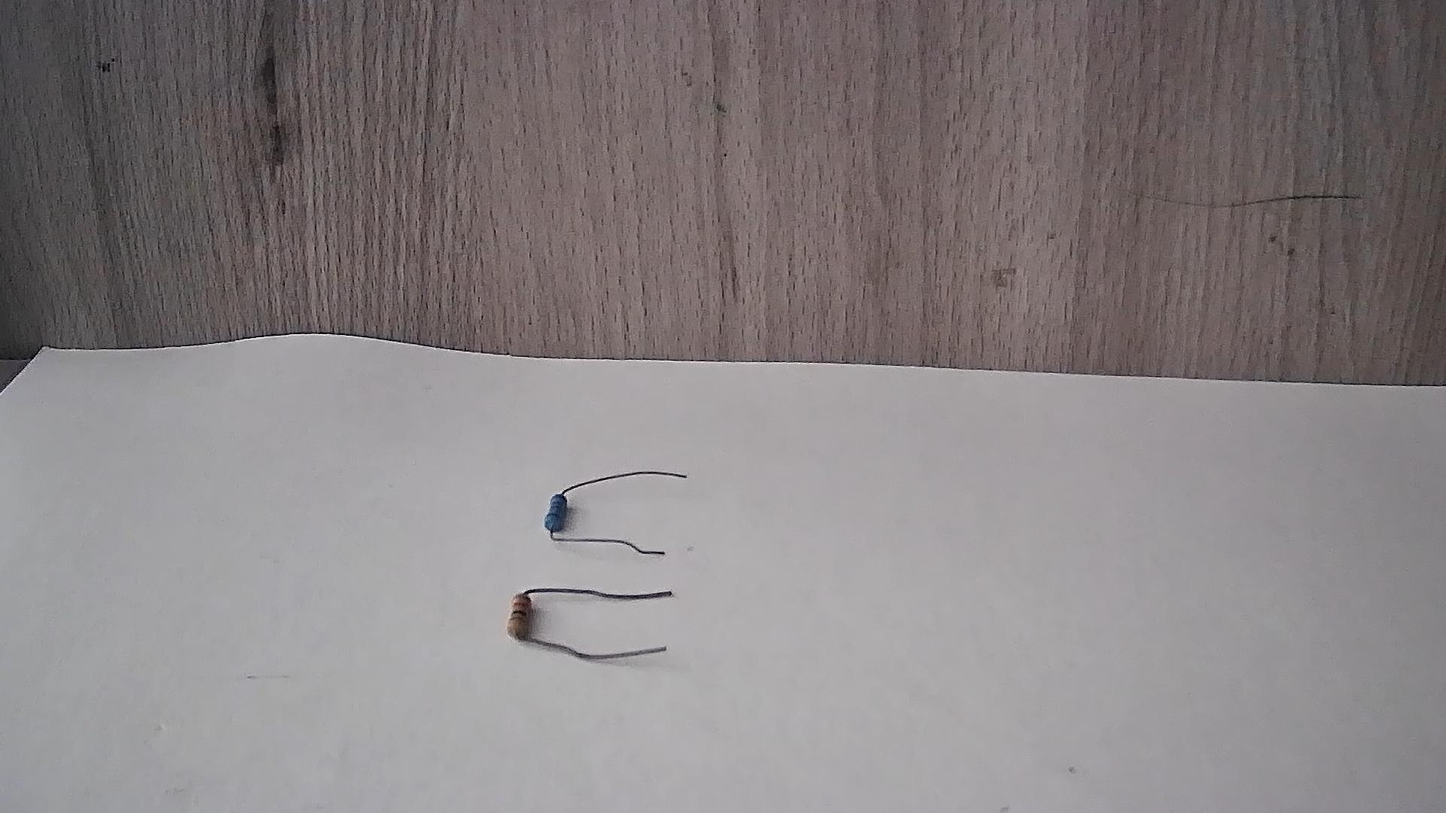Resistencia: (490, 565, 691, 691), (513, 450, 713, 568)
